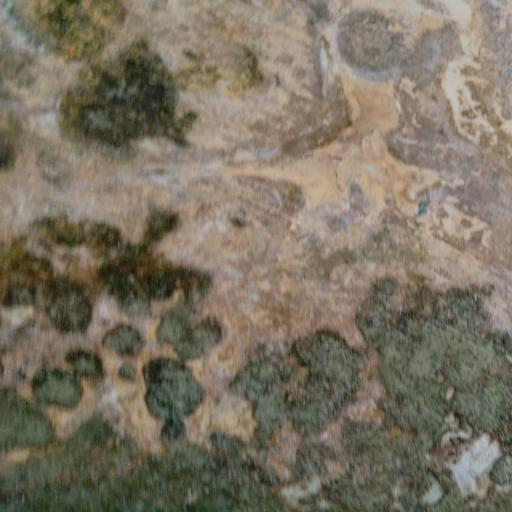algae: (1, 58, 511, 512)
